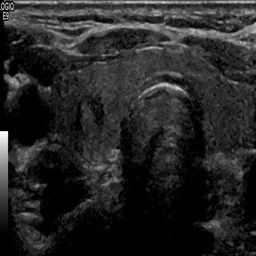mass: (83, 92, 109, 131)
